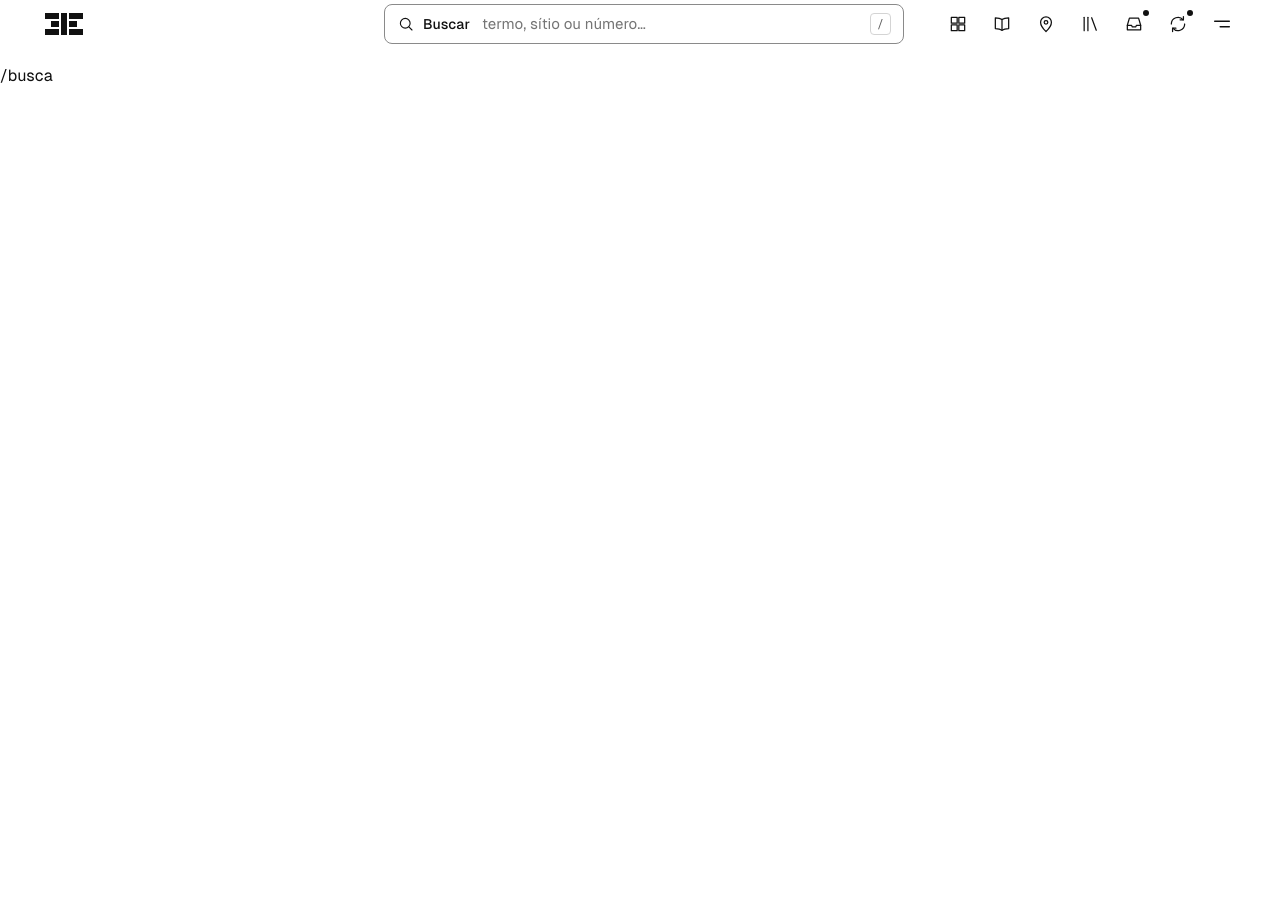
Scenario: BarraSuperior › o ícone de sincronização (PC-Sincronizacao.dc.html) › clicar abre o painel "Sincronização · Dropbox": estado, o que vai subir, o botão e o automático; Esc fecha e o foco volta
Step 1. Click the button named "2 alterações por enviar — Salvar e sincronizar" → (1178, 24), box [1156, 2, 1200, 46]
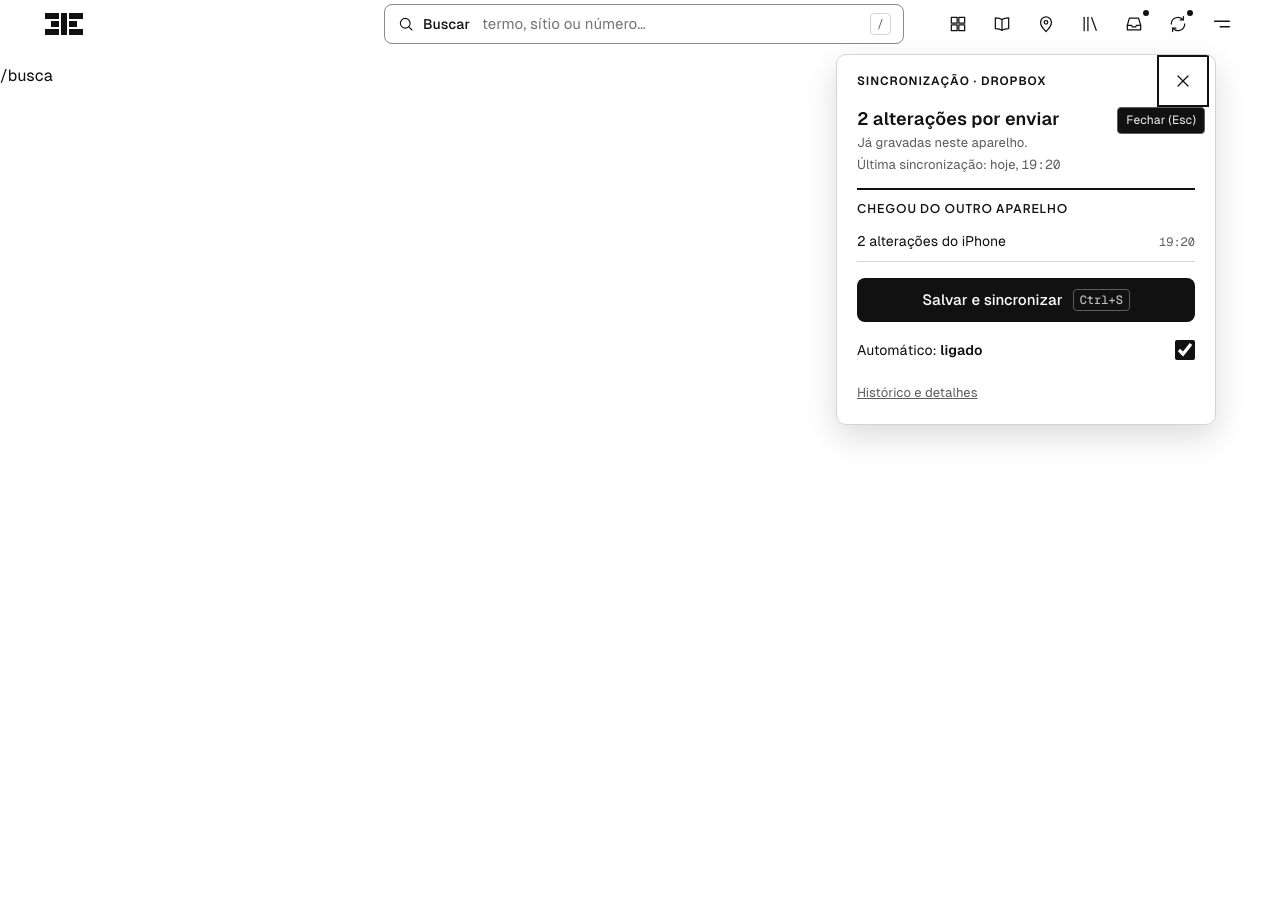
Check: the message shows "2 alterações por enviar", box [857, 108, 1060, 129]
Check: the text "Última sincronização: hoje, 19:20" is shown, box [857, 155, 1061, 174]
Check: the element "Chegou do outro aparelho" shows "2 alterações do iPhone", box [857, 188, 1195, 262]
Step 2. Click the button "Salvar e sincronizar Ctrl+S" → (1026, 300), box [857, 278, 1195, 322]
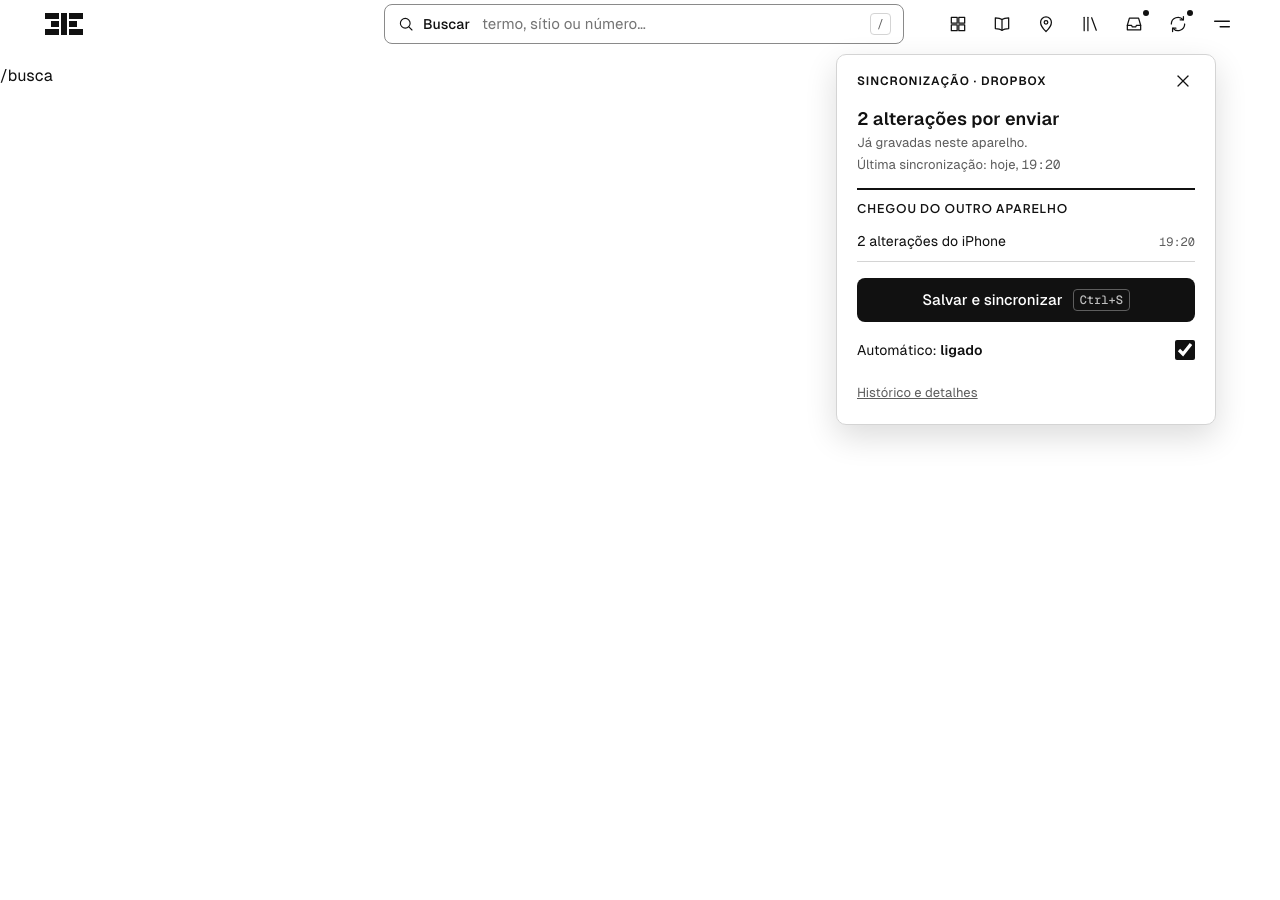
Check: the switch labelled "Automático: ligado" is checked, box [1175, 340, 1195, 360]
Step 3. Press Escape
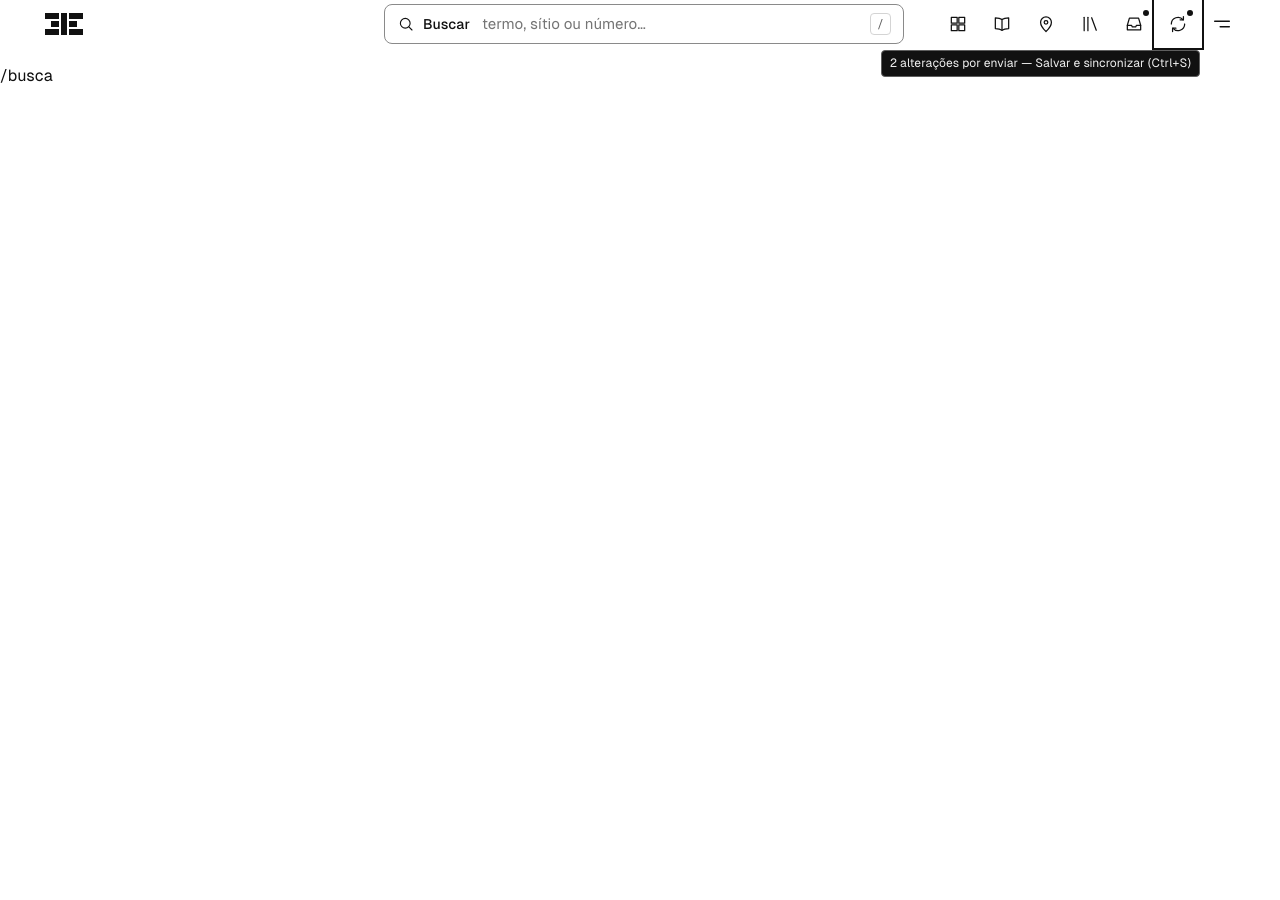
Check: the text "Sincronização · Dropbox" is gone
